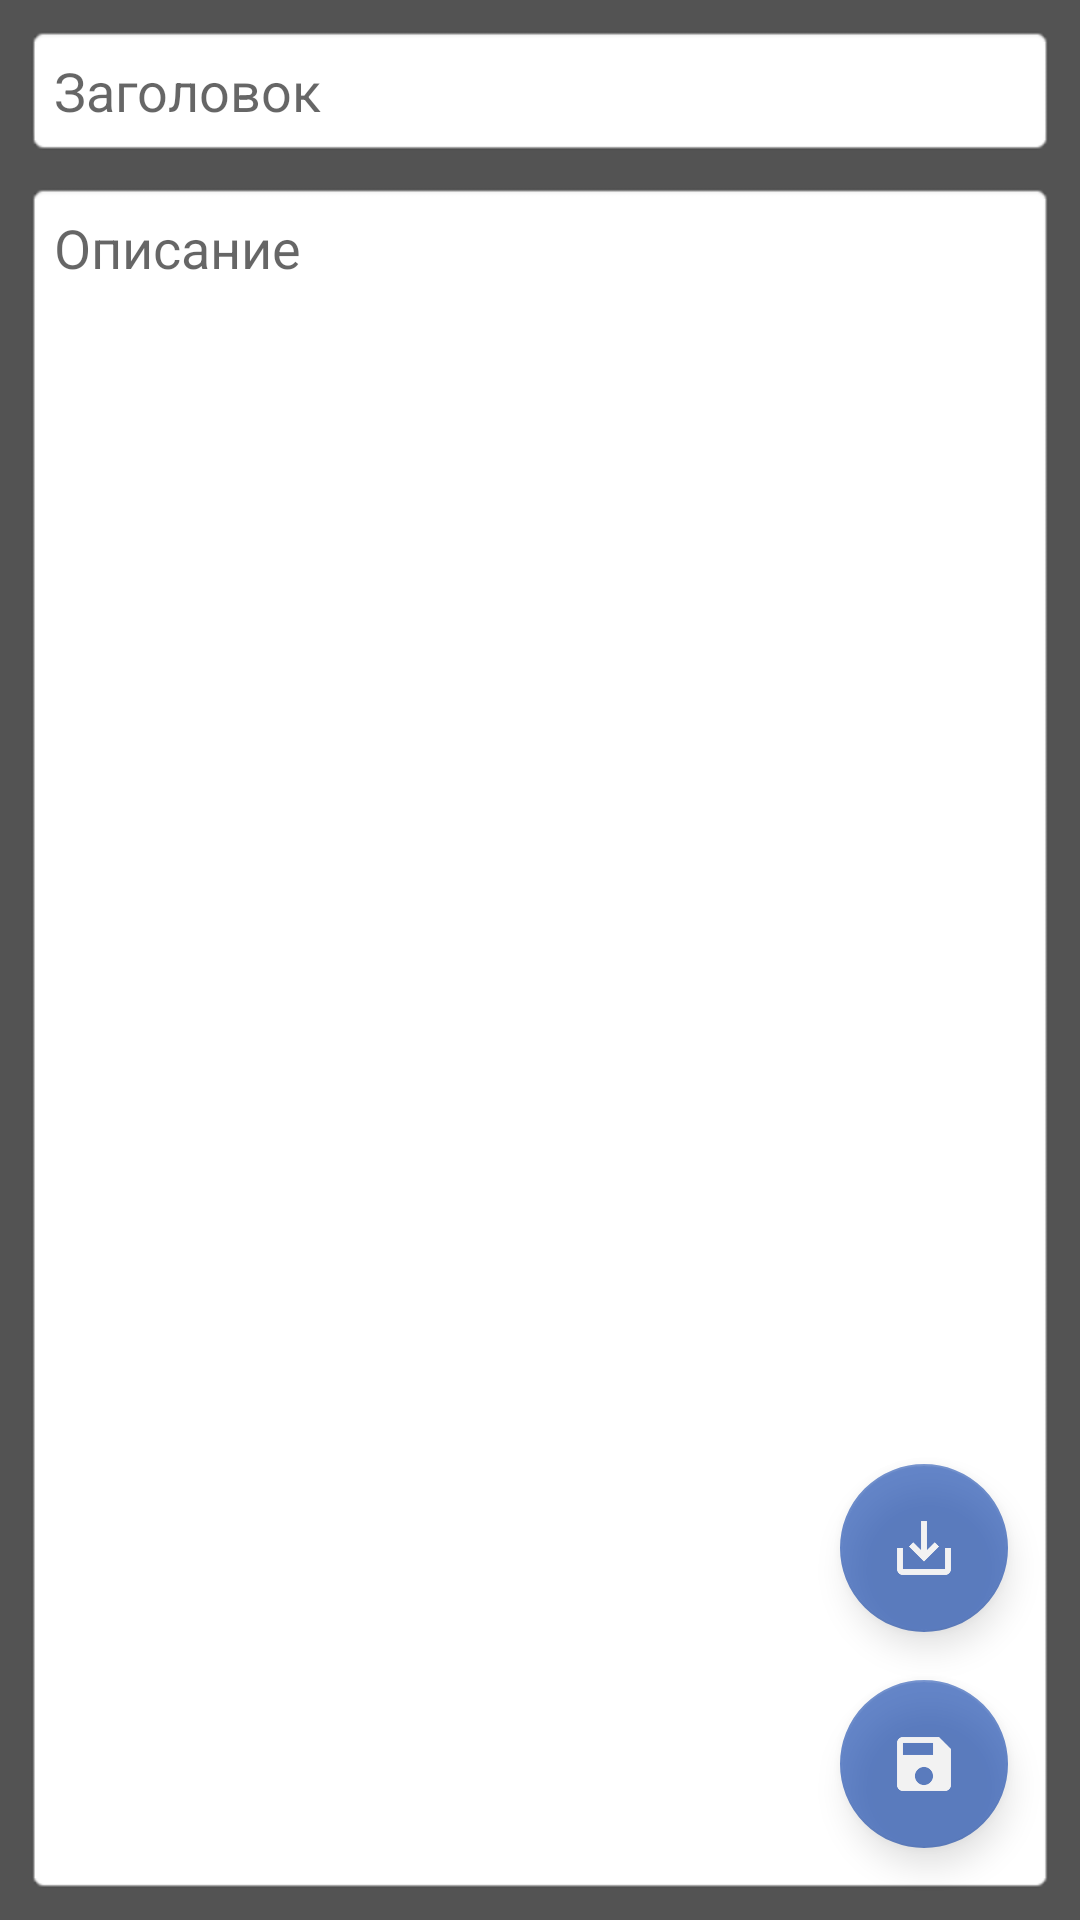

Named icons in this screenshot (1080x1920) and their bounding boxes, Rect(x1, y1, x2, y2):
save: Rect(840, 1680, 1008, 1848)
